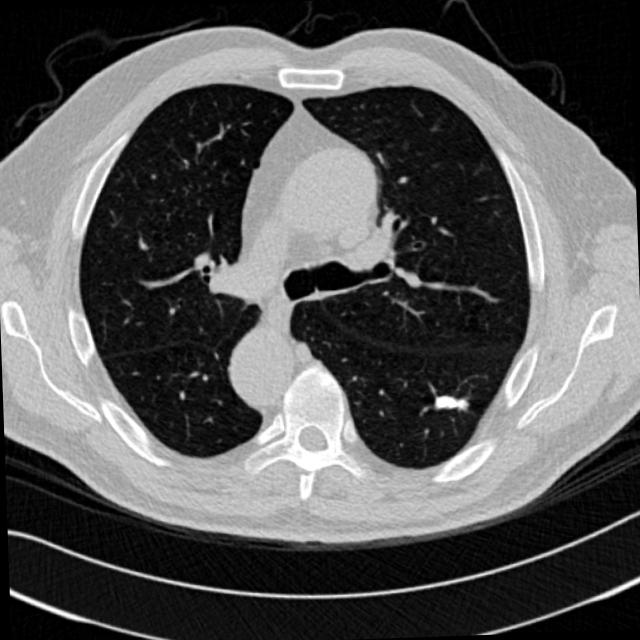nodule: (426, 374, 476, 424)
